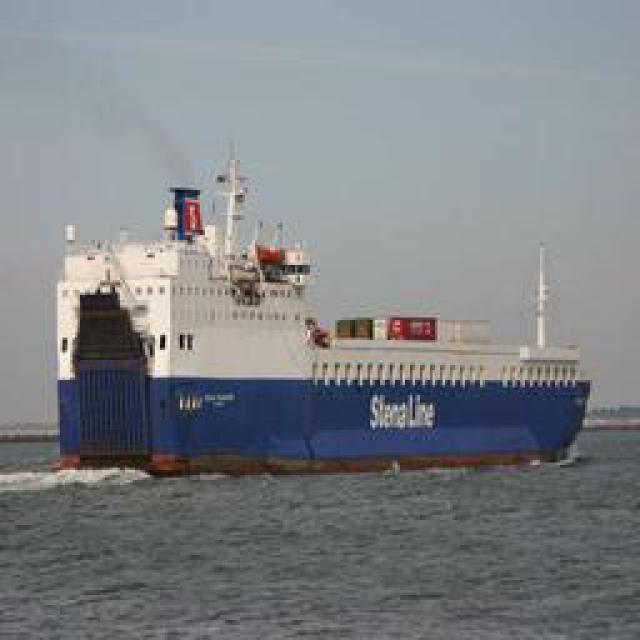Ship: (47, 198, 602, 481)
